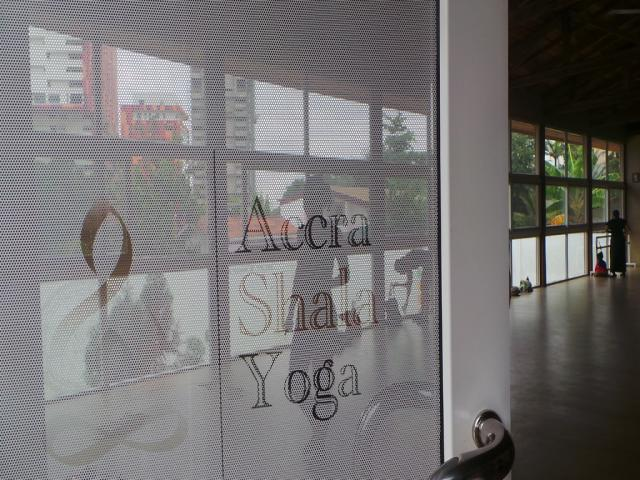Door-handle: (426, 408, 516, 480)
